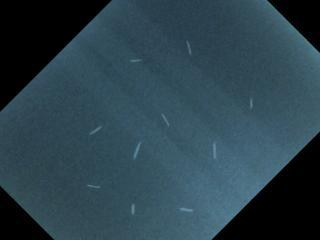scratch: (133, 141, 142, 159), (160, 113, 170, 128), (89, 125, 103, 135), (186, 40, 193, 55), (179, 207, 194, 213), (212, 142, 217, 159), (87, 184, 101, 189), (129, 58, 142, 63), (249, 98, 254, 110), (131, 203, 136, 215)
